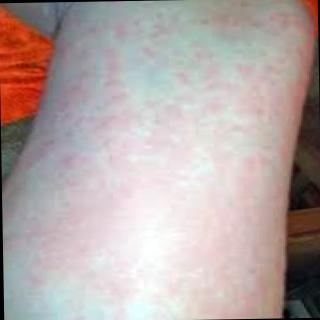urticaria: (175, 40, 221, 98), (49, 130, 82, 209), (104, 46, 131, 130), (238, 141, 273, 205), (191, 11, 297, 30), (232, 55, 266, 82)
